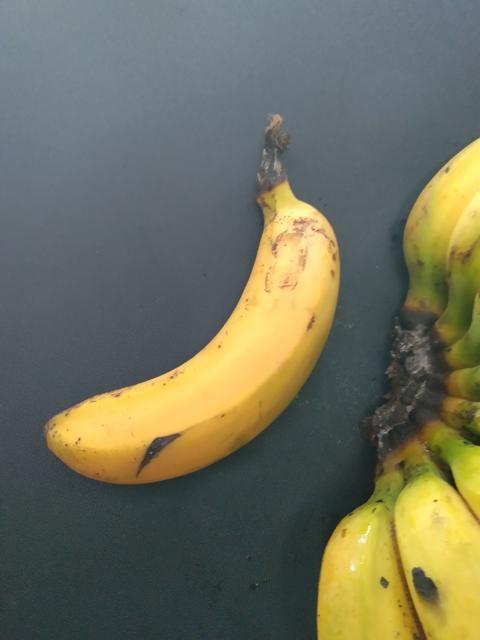ripe: (6, 178, 350, 492)
